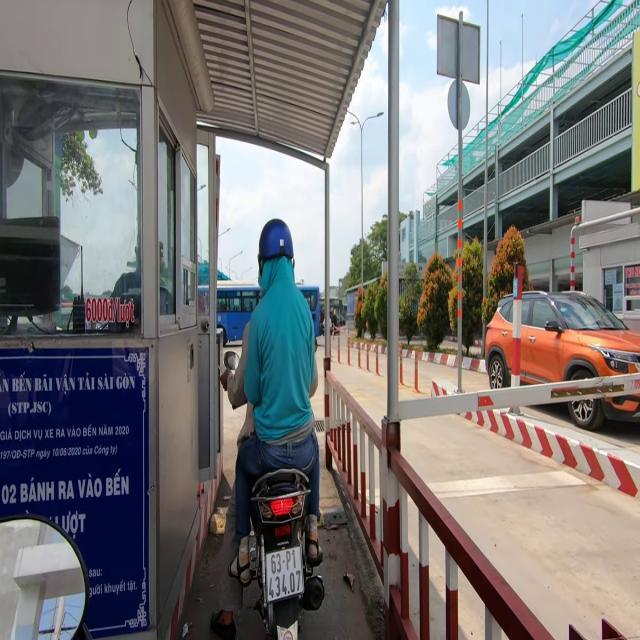bien_trang: (263, 548, 306, 602)
